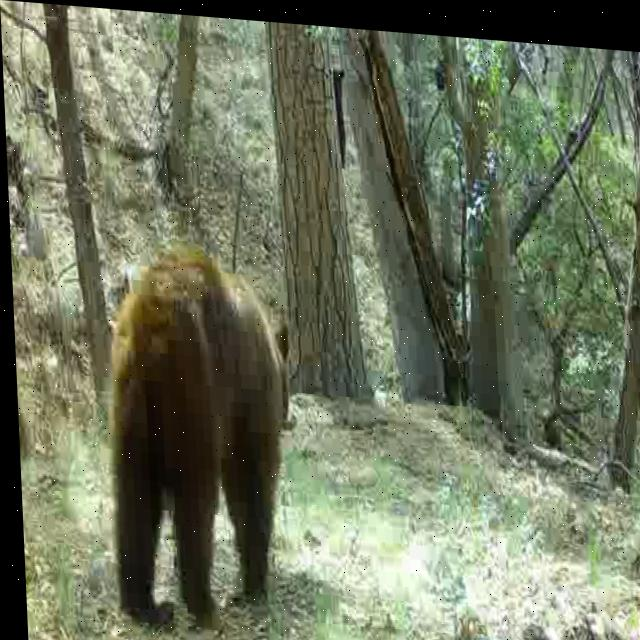bear face: (98, 238, 295, 633)
